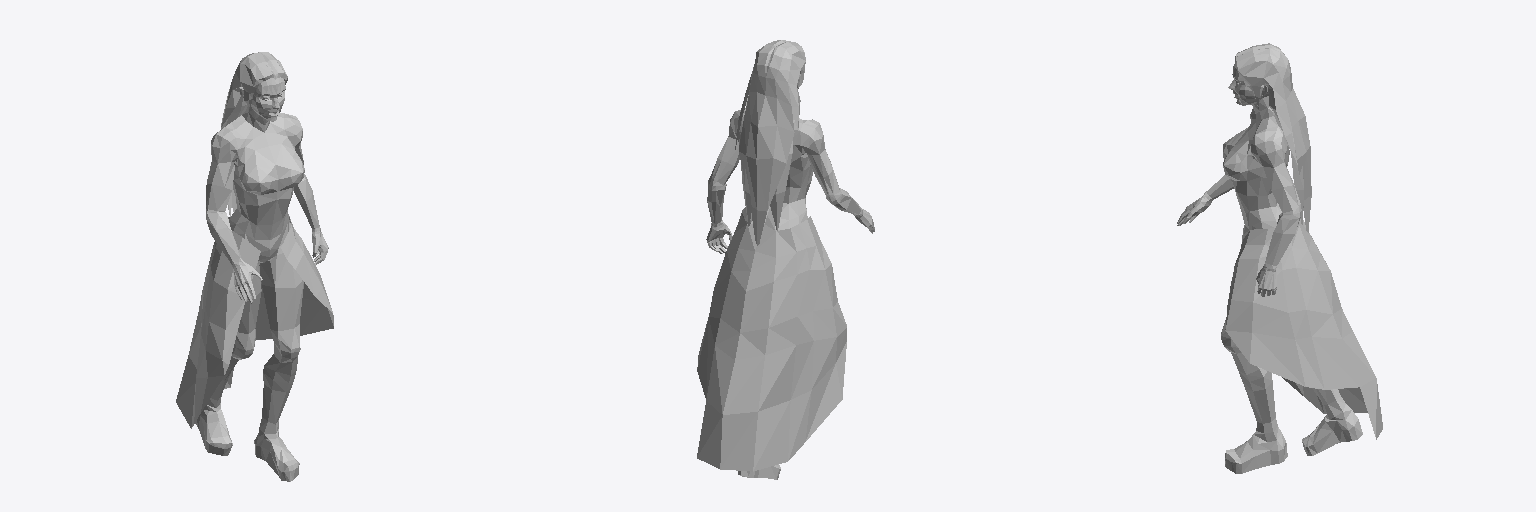
The model's file is running_003.obj.
The picture shows the model from 3 angles: view 1: azimuth 30°, elevation 25°; view 2: azimuth 150°, elevation 25°; view 3: azimuth 270°, elevation 25°; orthographic projection.
Parts seen in each view (by area): view 1: Plane.001_Plane.007, Plane.003_Plane.008, capelli.001_Plane.006; view 2: Plane.003_Plane.008, capelli.001_Plane.006, Plane.001_Plane.007; view 3: Plane.003_Plane.008, Plane.001_Plane.007, capelli.001_Plane.006.
Part boxes in pixels (bbox=[...]): Plane.001_Plane.007: bbox=[195, 63, 328, 481]; Plane.003_Plane.008: bbox=[176, 216, 333, 428]; capelli.001_Plane.006: bbox=[221, 52, 287, 216]; Plane.003_Plane.008: bbox=[697, 207, 846, 471]; capelli.001_Plane.006: bbox=[735, 40, 805, 245]; Plane.001_Plane.007: bbox=[706, 42, 874, 479]; Plane.003_Plane.008: bbox=[1225, 219, 1382, 439]; Plane.001_Plane.007: bbox=[1177, 51, 1362, 473]; capelli.001_Plane.006: bbox=[1235, 43, 1311, 232].
Size of the model in its own units: 1.8 by 5.5 by 2.48.